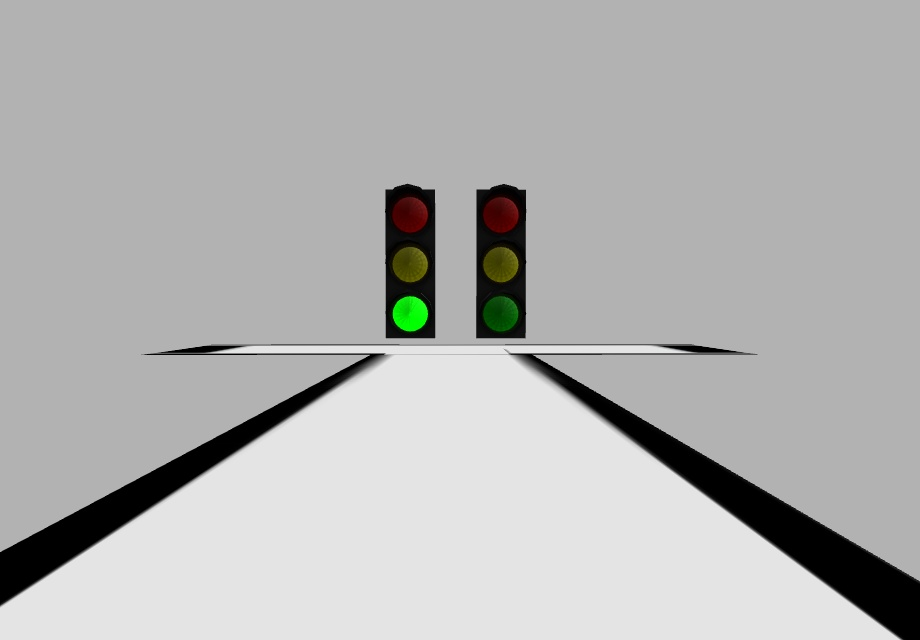green_off: (476, 290, 524, 340)
green_on: (384, 289, 431, 337)
